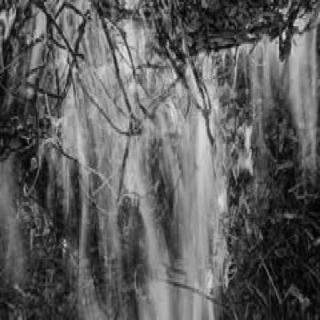Fire: (6, 4, 317, 316)
